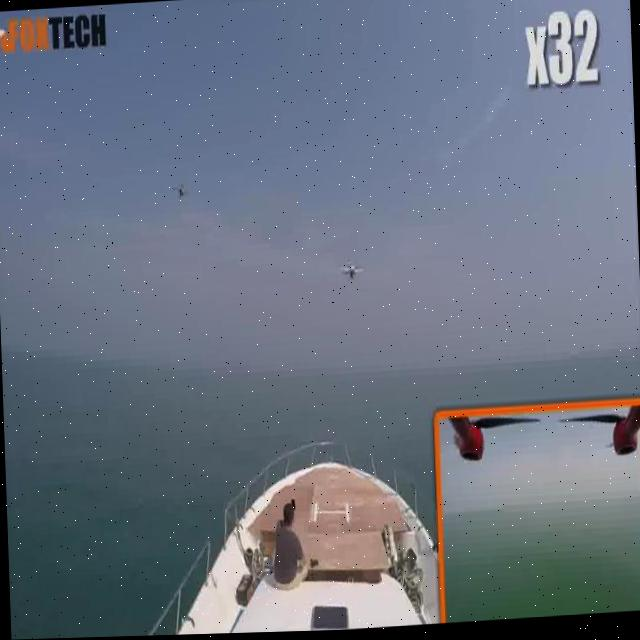drone: (332, 245, 367, 287), (168, 175, 193, 207)
